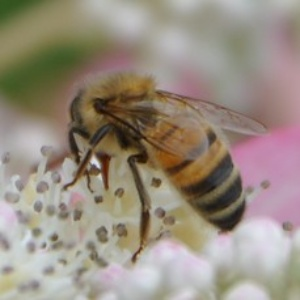bee: (64, 68, 272, 260)
